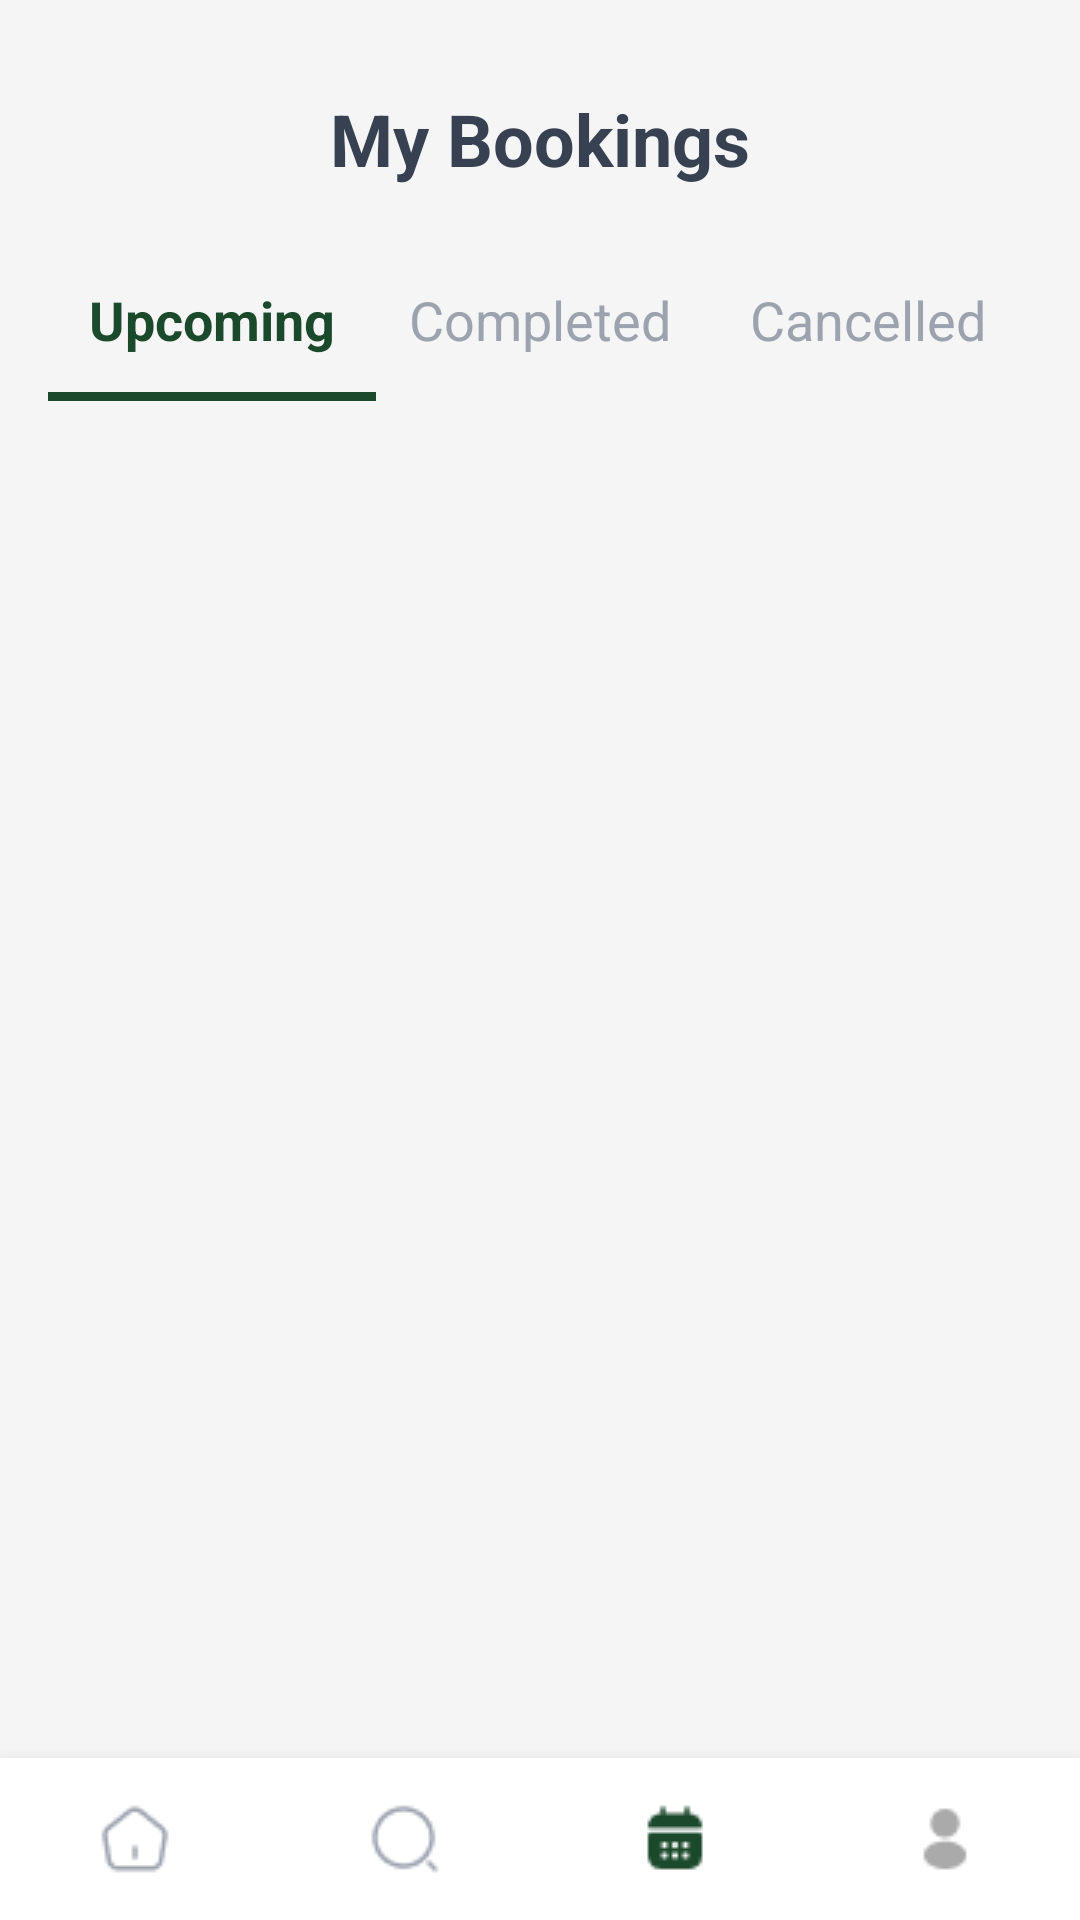

Icons on this 1080×1920 Android screen, each with the point to tap as (x,y):
calendar: (675,1837)
home: (135,1839)
profile: (945,1839)
search: (404,1838)
